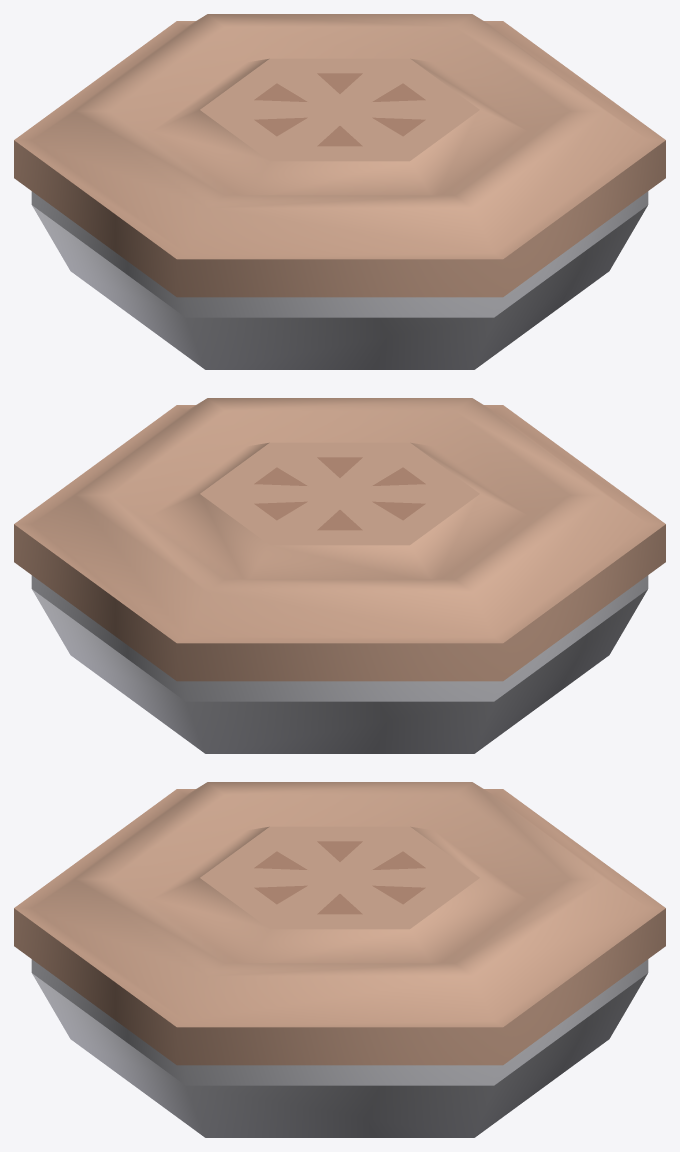
File: mincemeat-pie.glb
3 renders of one model, top to bottom at view 1: azimuth 30°, elevation 25°; view 2: azimuth 150°, elevation 25°; view 3: azimuth 270°, elevation 25°, orthographic.
Visible parts, largest first — view 1: mincemeat-pie; view 2: mincemeat-pie; view 3: mincemeat-pie.
Boxes of the visible parts, bbox=[...] form: mincemeat-pie: bbox=[14, 14, 665, 369]; mincemeat-pie: bbox=[14, 398, 665, 753]; mincemeat-pie: bbox=[14, 782, 665, 1137].
Bounding box in the file's own units: 0.5309 × 0.1673 × 0.6131.
